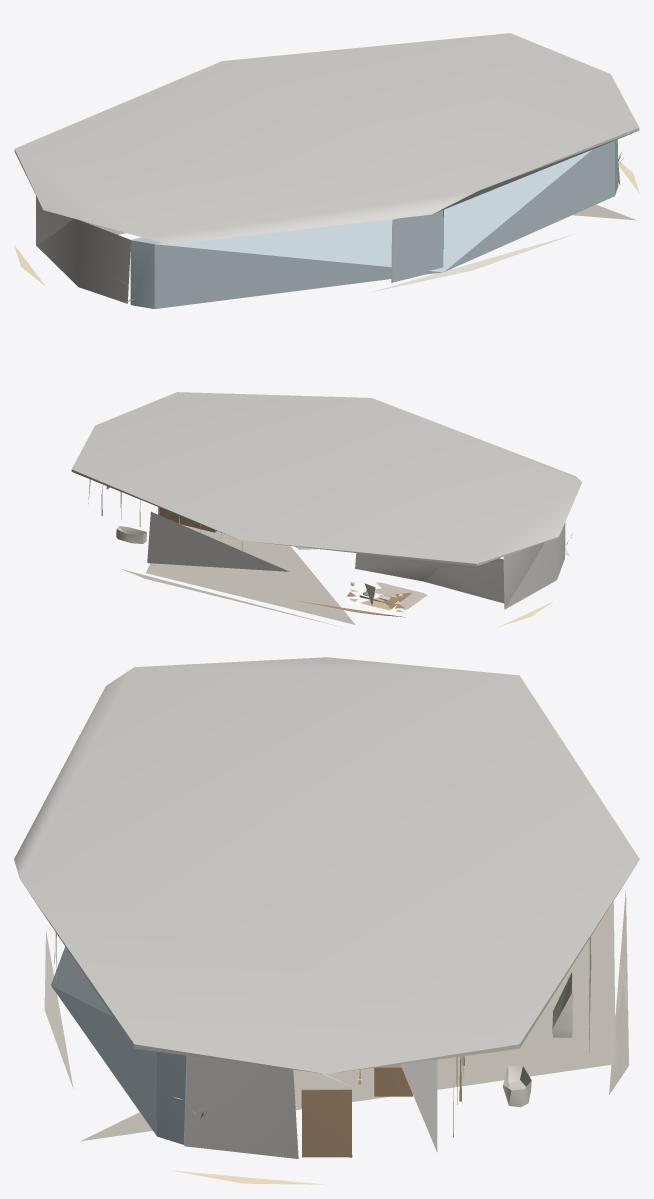
Rendered from Dune_LOD0.dae.
3 views of the same model, one above another, from view 1: azimuth 30°, elevation 25°; view 2: azimuth 150°, elevation 25°; view 3: azimuth 270°, elevation 25° (orthographic). The views are drawn at different scales.
Visible parts, largest first — view 1: Dune_Roof_LOD0, Dune_Glass_S_LOD0, Dune_Wall_W_LOD0, Dune_Door_S_LOD0, Dune_Floor_LOD0; view 2: Dune_Roof_LOD0, Dune_Floor_LOD0, Dune_Wall_N_LOD0, Dune_Partition_LOD0, Dune_Wall_W_LOD0, Dune_Bed_LOD0, Dune_Bed_Rug_LOD0, Dune_Bathtub_LOD0, Dune_Island_LOD0; view 3: Dune_Roof_LOD0, Dune_Floor_LOD0, Dune_Wall_E_LOD0, Dune_Glass_S_LOD0, Dune_Door_E_LOD0, Dune_Island_LOD0, Dune_Bathtub_LOD0, Dune_Vanity_LOD0.
Part boxes in pixels (x1,y1,x2,y2): Dune_Roof_LOD0: (14, 33, 639, 244); Dune_Glass_S_LOD0: (130, 139, 618, 308); Dune_Wall_W_LOD0: (36, 196, 130, 303); Dune_Door_S_LOD0: (391, 210, 443, 283); Dune_Floor_LOD0: (14, 161, 639, 292); Dune_Roof_LOD0: (71, 392, 582, 566); Dune_Floor_LOD0: (99, 485, 553, 627); Dune_Wall_N_LOD0: (147, 511, 404, 617); Dune_Partition_LOD0: (355, 553, 504, 603); Dune_Wall_W_LOD0: (503, 522, 565, 609); Dune_Bed_LOD0: (359, 583, 412, 610); Dune_Bed_Rug_LOD0: (376, 582, 427, 609); Dune_Bathtub_LOD0: (116, 526, 146, 543); Dune_Island_LOD0: (158, 507, 216, 532); Dune_Roof_LOD0: (14, 657, 639, 1073); Dune_Floor_LOD0: (44, 890, 628, 1184); Dune_Wall_E_LOD0: (184, 1055, 437, 1158); Dune_Glass_S_LOD0: (51, 946, 186, 1144); Dune_Door_E_LOD0: (301, 1089, 352, 1157); Dune_Island_LOD0: (374, 1064, 412, 1096); Dune_Bathtub_LOD0: (503, 1066, 531, 1107); Dune_Vanity_LOD0: (552, 972, 572, 1037).
Bounding box in the file's own units: 27.8 × 17.8 × 4.34.
